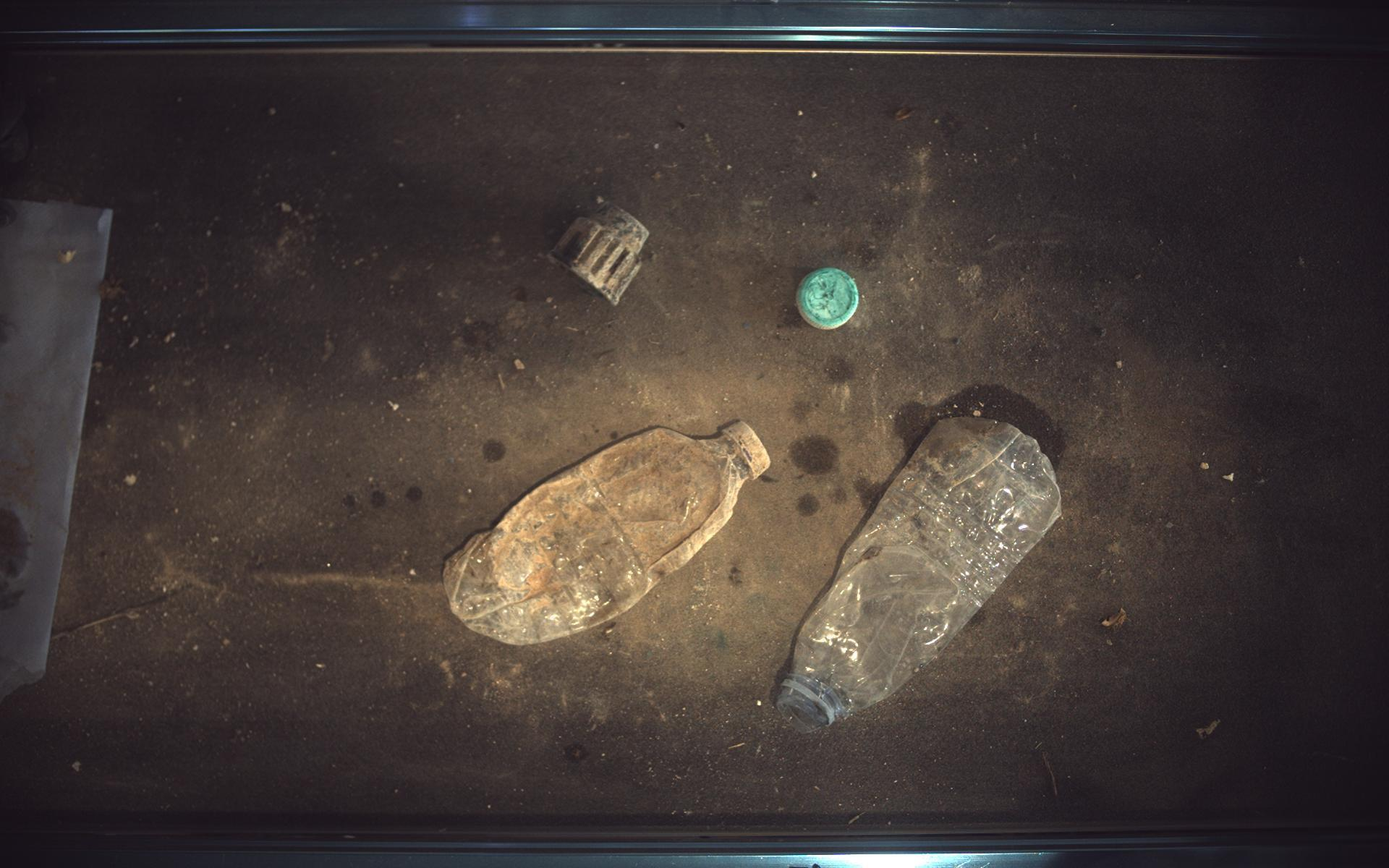general_w: (777, 417, 1063, 733), (443, 421, 771, 646)
plastic: (549, 202, 650, 305)
